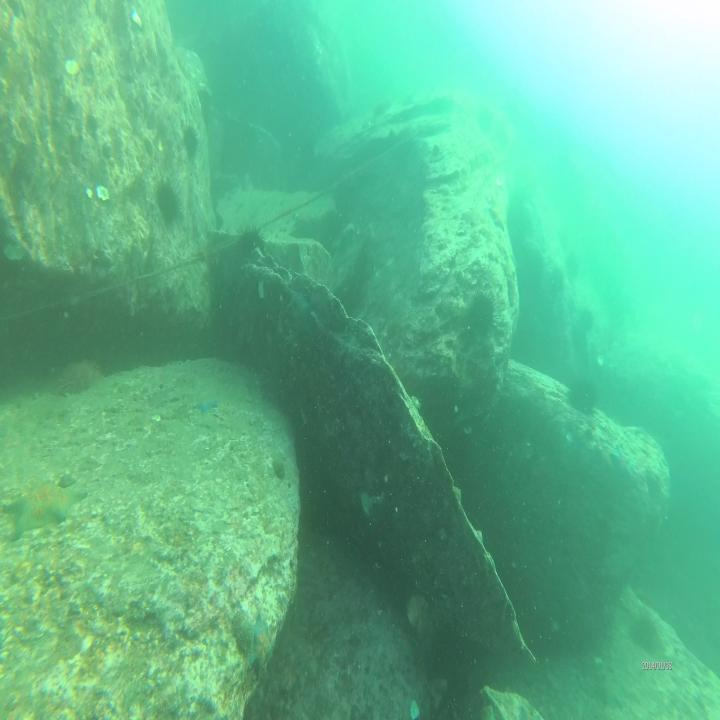echinus: (57, 355, 102, 399), (466, 286, 502, 338), (628, 607, 666, 656), (155, 174, 182, 226), (234, 224, 266, 267), (564, 374, 596, 416), (180, 123, 199, 162)
starfish: (6, 469, 86, 534), (246, 610, 274, 673), (195, 388, 219, 418)
